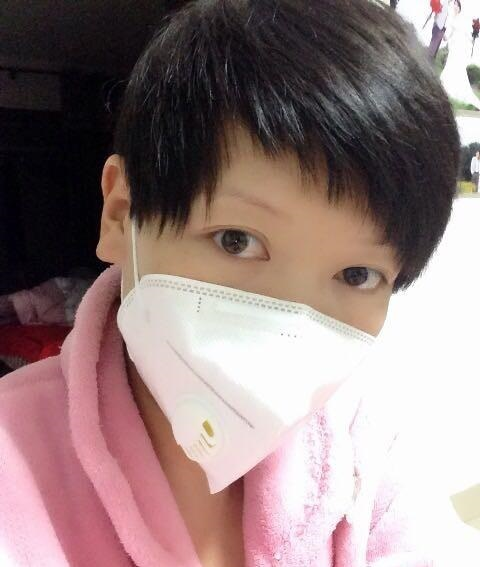face_mask: (128, 153, 393, 494)
